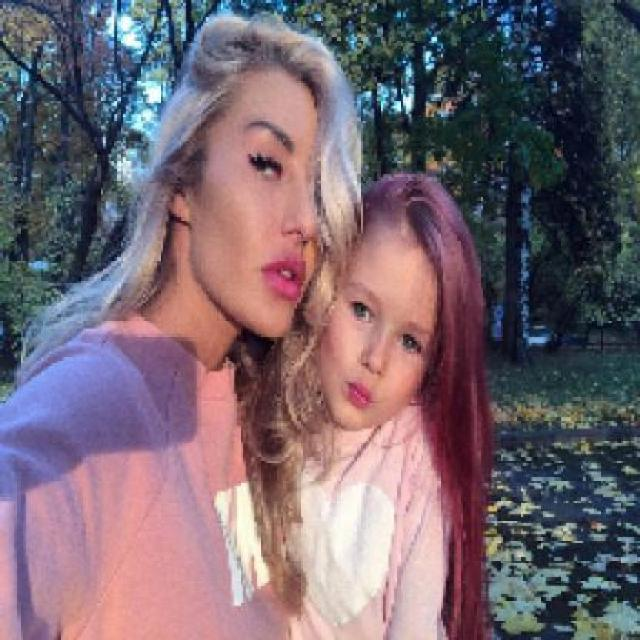child: (294, 172, 494, 638)
